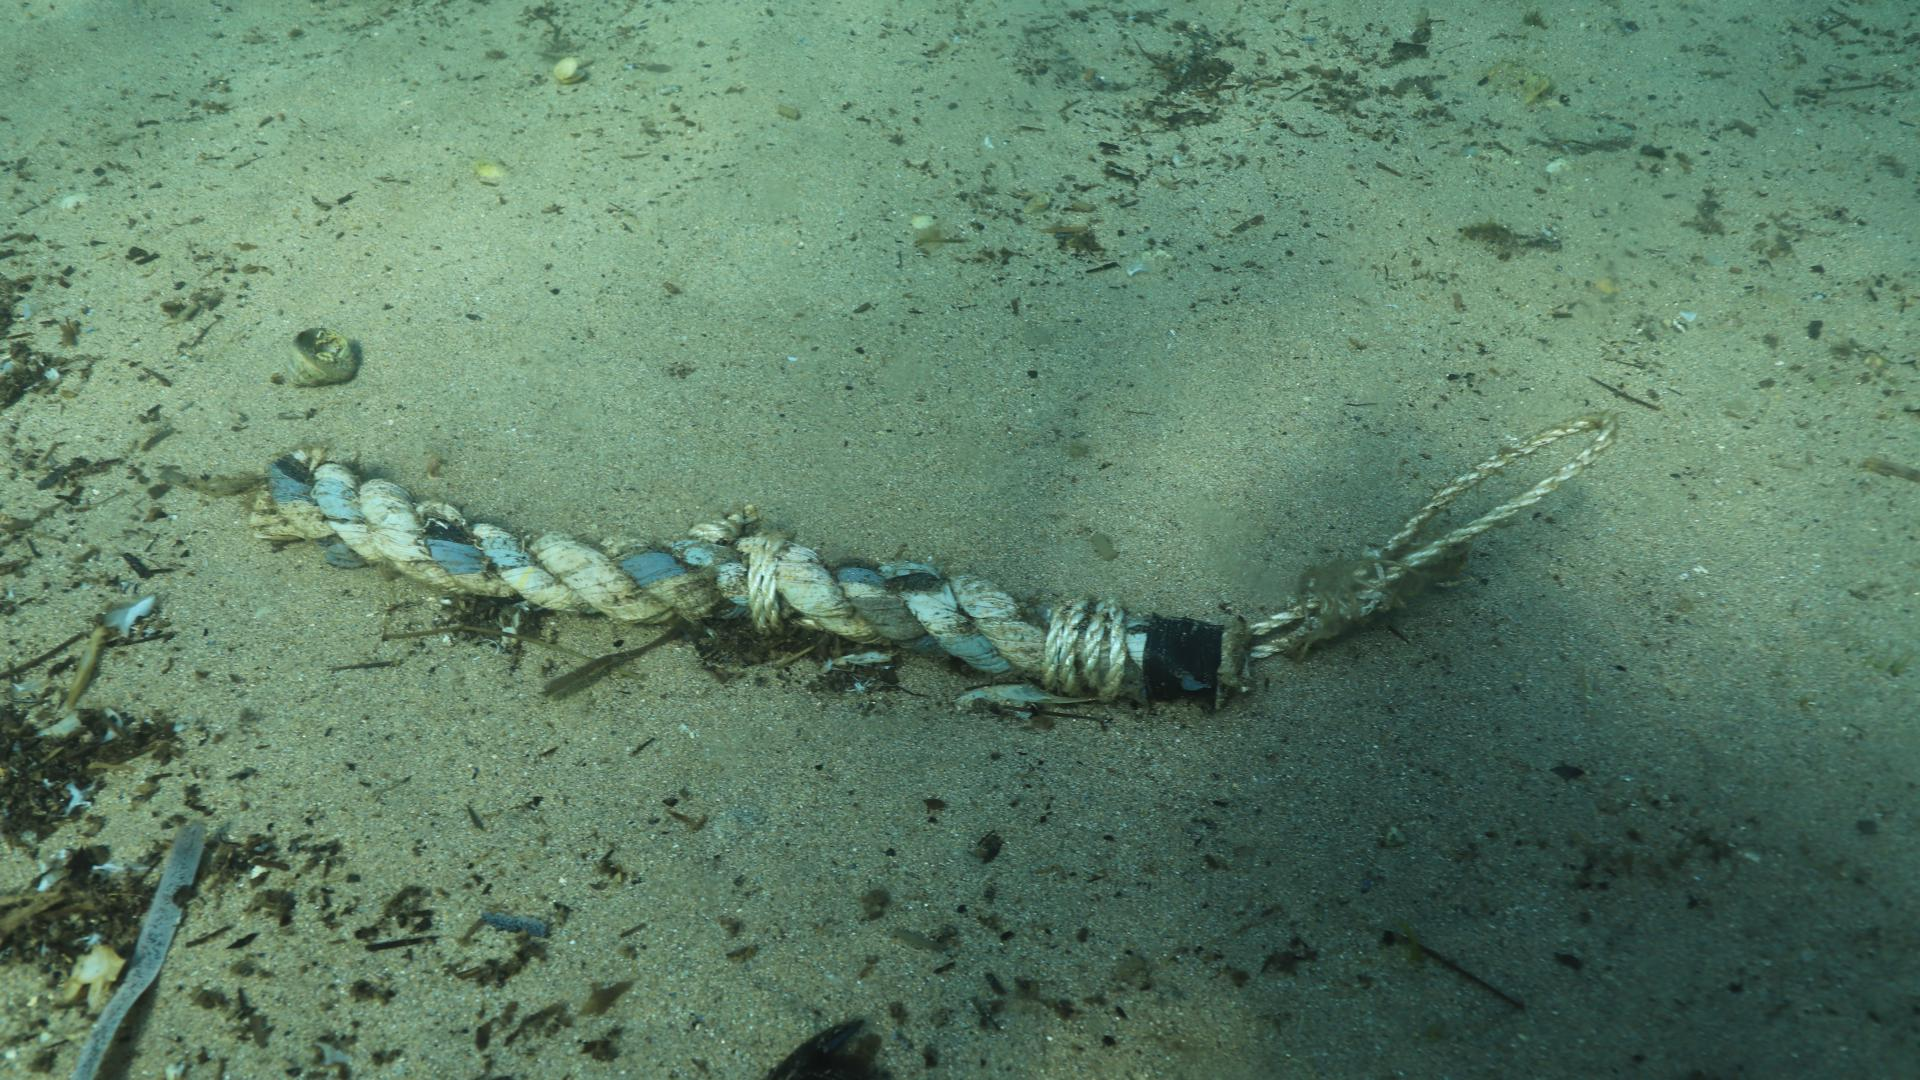bundle of ropes: (282, 463, 1247, 705), (1247, 407, 1623, 665)
